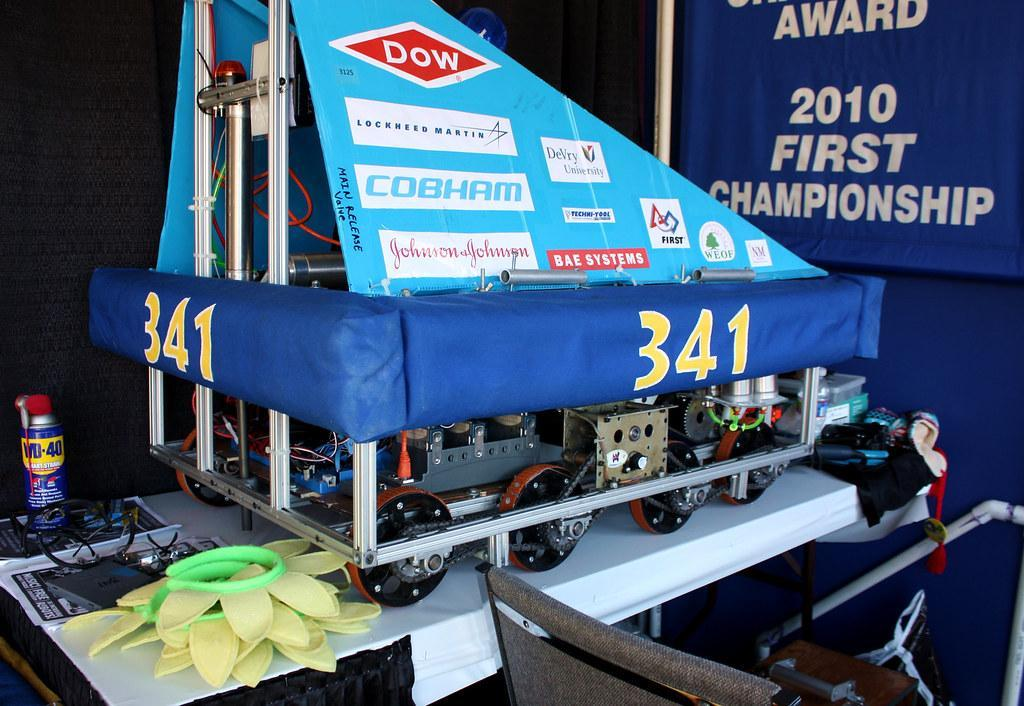robot: (83, 0, 884, 610)
